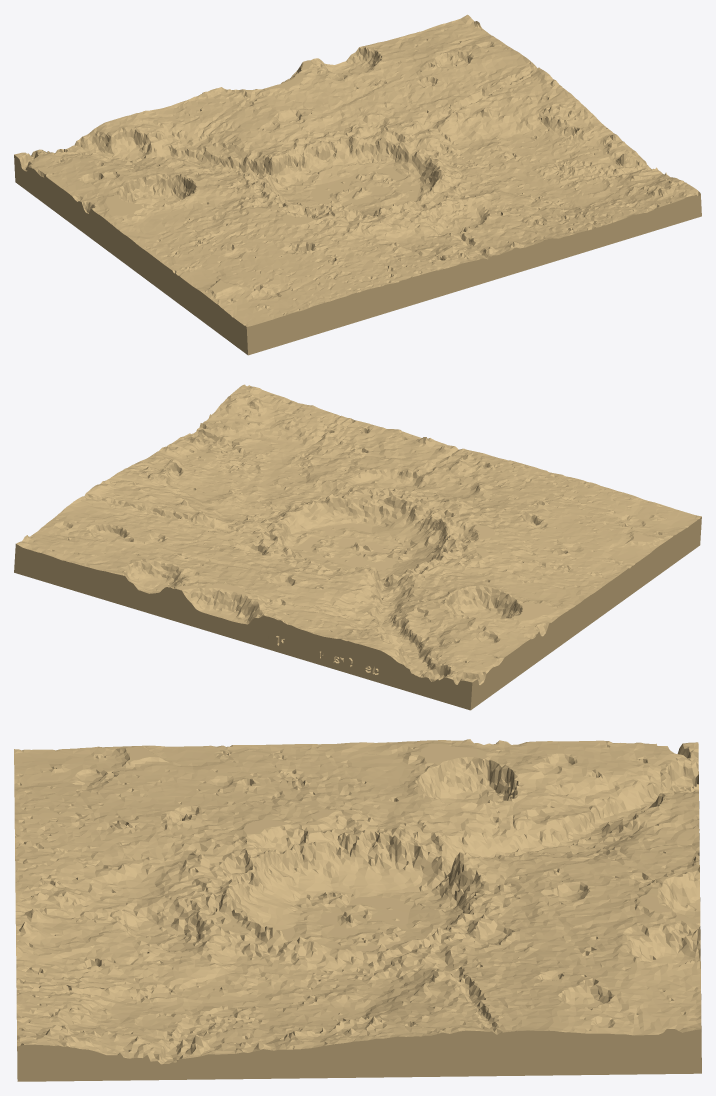
File: holdencrater.dae
3 renders of one model, top to bottom at view 1: azimuth 30°, elevation 25°; view 2: azimuth 150°, elevation 25°; view 3: azimuth 270°, elevation 25°, orthographic. The views are drawn at different scales.
Visible parts, largest first — view 1: Holdencrater; view 2: Holdencrater; view 3: Holdencrater.
Boxes of the visible parts, x1,y1,x2,y2 form: Holdencrater: (14,14,701,355); Holdencrater: (14,384,701,710); Holdencrater: (14,739,701,1081).
Size of the model in its own units: 11.48 by 10.07 by 1.47.
